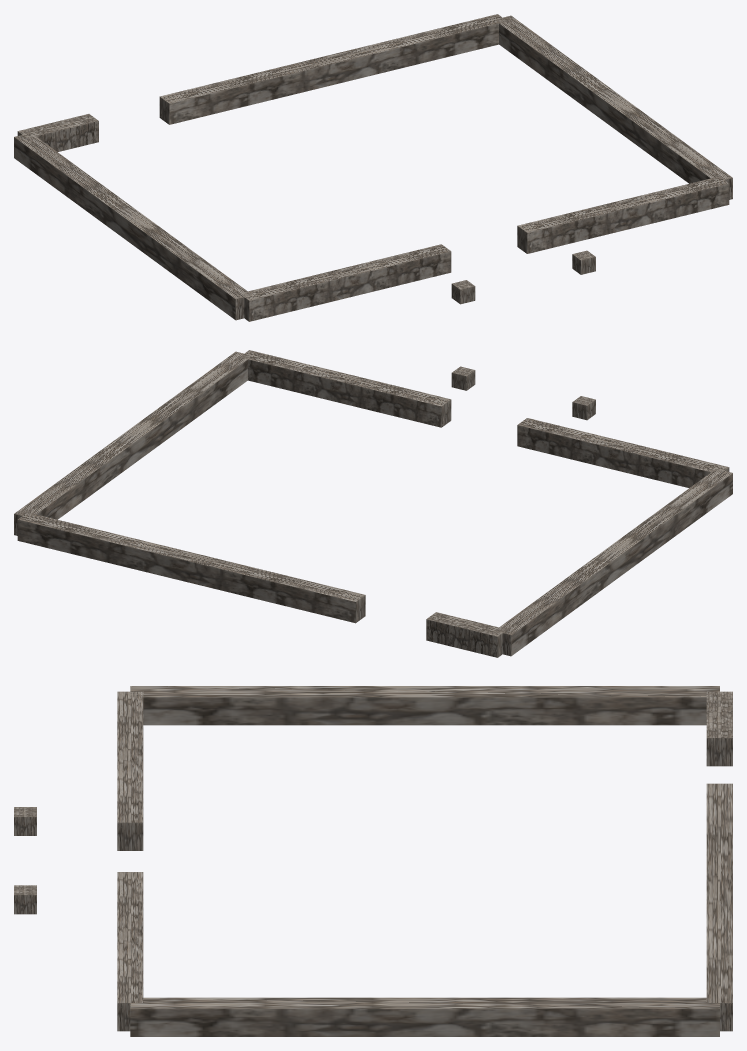
The model's file is BW_Farmhouse01_Foundation.fbx.
3 renders of one model, top to bottom at view 1: azimuth 30°, elevation 25°; view 2: azimuth 150°, elevation 25°; view 3: azimuth 270°, elevation 25°, orthographic. The views are drawn at different scales.
Parts seen in each view (by area): view 1: BW_Farmhouse01_Foundation; view 2: BW_Farmhouse01_Foundation; view 3: BW_Farmhouse01_Foundation.
Part boxes in pixels (x1,y1,x2,y2): BW_Farmhouse01_Foundation: (14, 14, 732, 321); BW_Farmhouse01_Foundation: (14, 350, 732, 657); BW_Farmhouse01_Foundation: (14, 686, 732, 1036).
Size of the model in its own units: 9.32 by 0.38 by 8.78.
